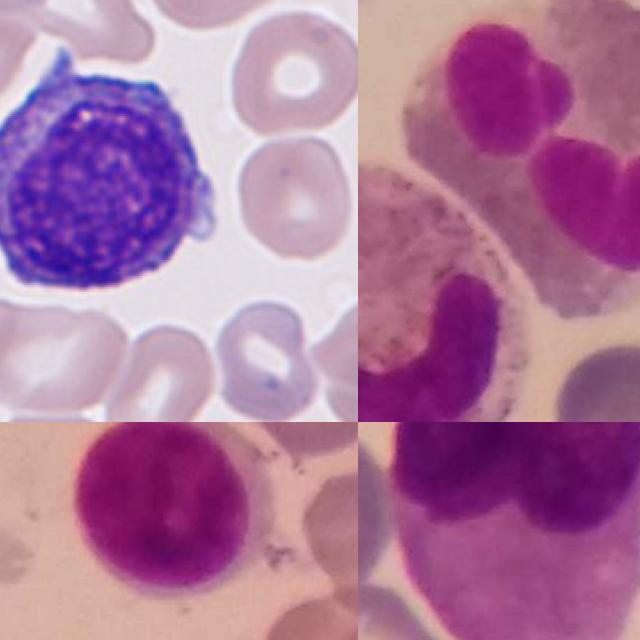Eosinophil: (407, 0, 640, 323)
Lymphocyte: (0, 41, 231, 315), (67, 422, 279, 605)
Monocyte: (386, 422, 640, 640)
Neutrophil: (358, 162, 528, 422)
RBC: (226, 126, 358, 265), (225, 5, 358, 137), (0, 295, 132, 418), (207, 293, 326, 422), (100, 317, 217, 422), (306, 267, 358, 409), (0, 16, 42, 163), (141, 0, 324, 30), (321, 340, 358, 422), (0, 400, 121, 422)
